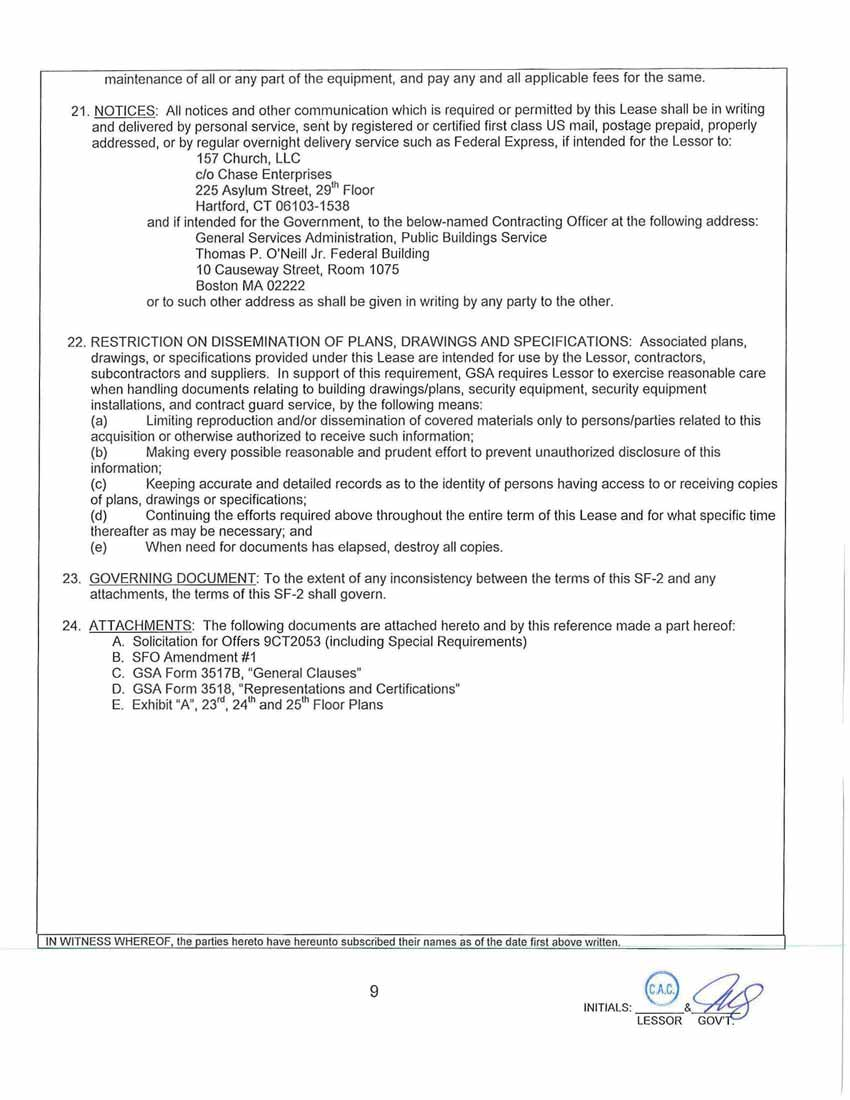handwritten: (693, 954, 775, 1020)
